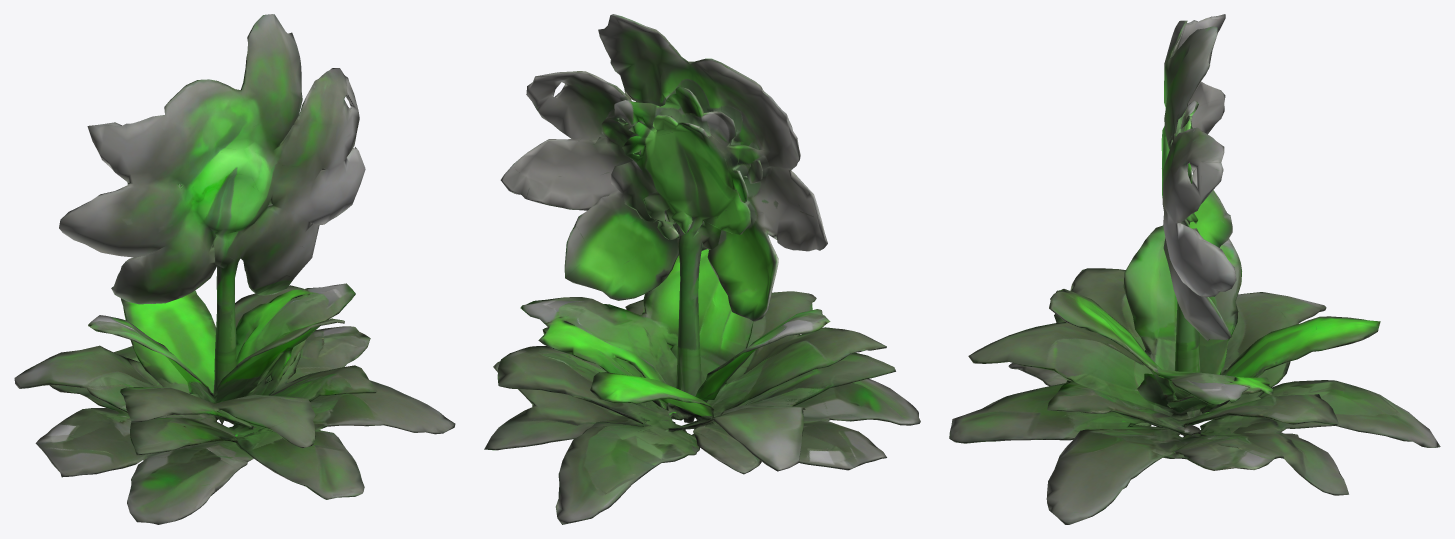
3 renders of one model, left to right at view 1: azimuth 30°, elevation 25°; view 2: azimuth 150°, elevation 25°; view 3: azimuth 270°, elevation 25°, orthographic. The views are drawn at different scales.
Bounding box in the file's own units: 1.83 × 1.99 × 2.
1 material, 1 textured.
